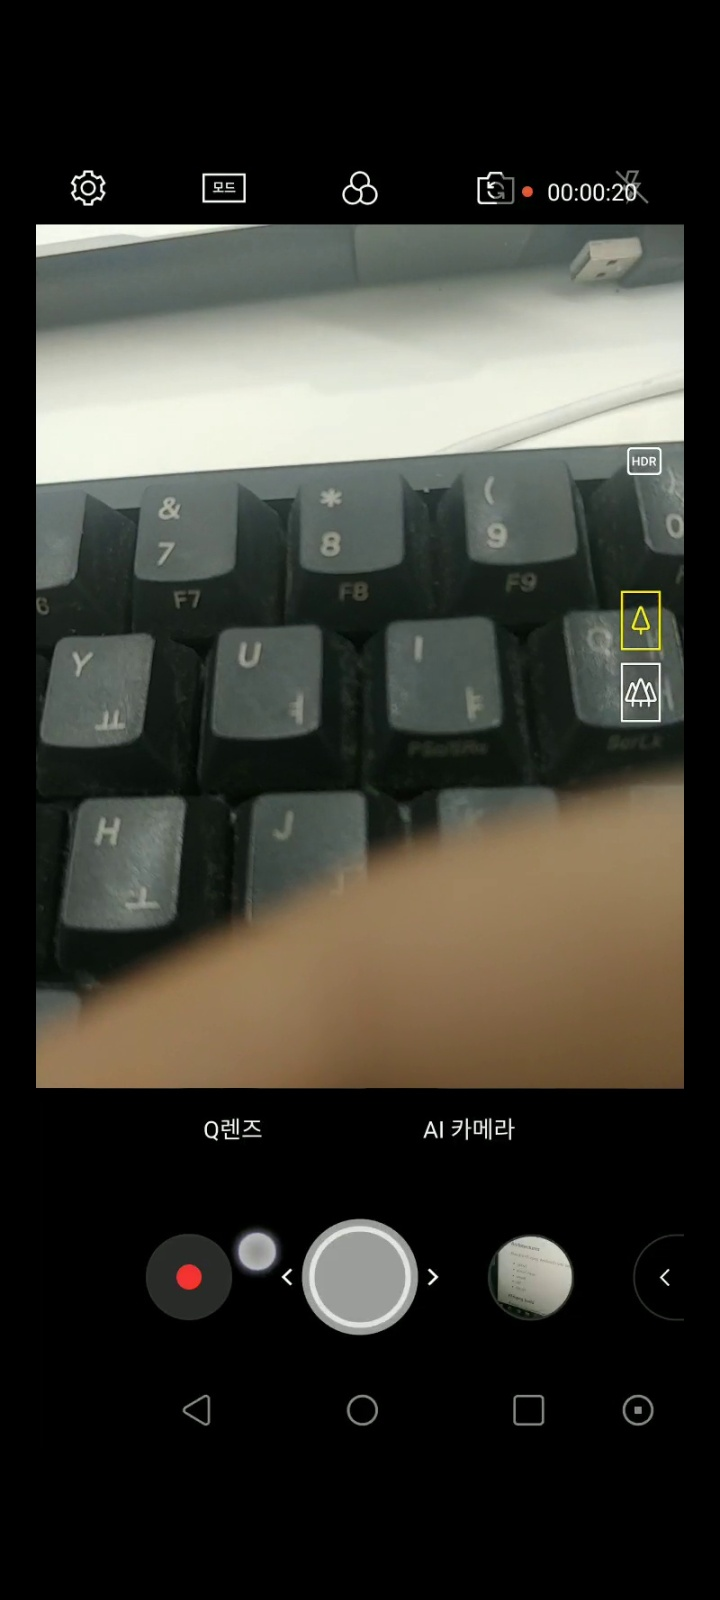Cursor: (235, 1230, 280, 1276)
